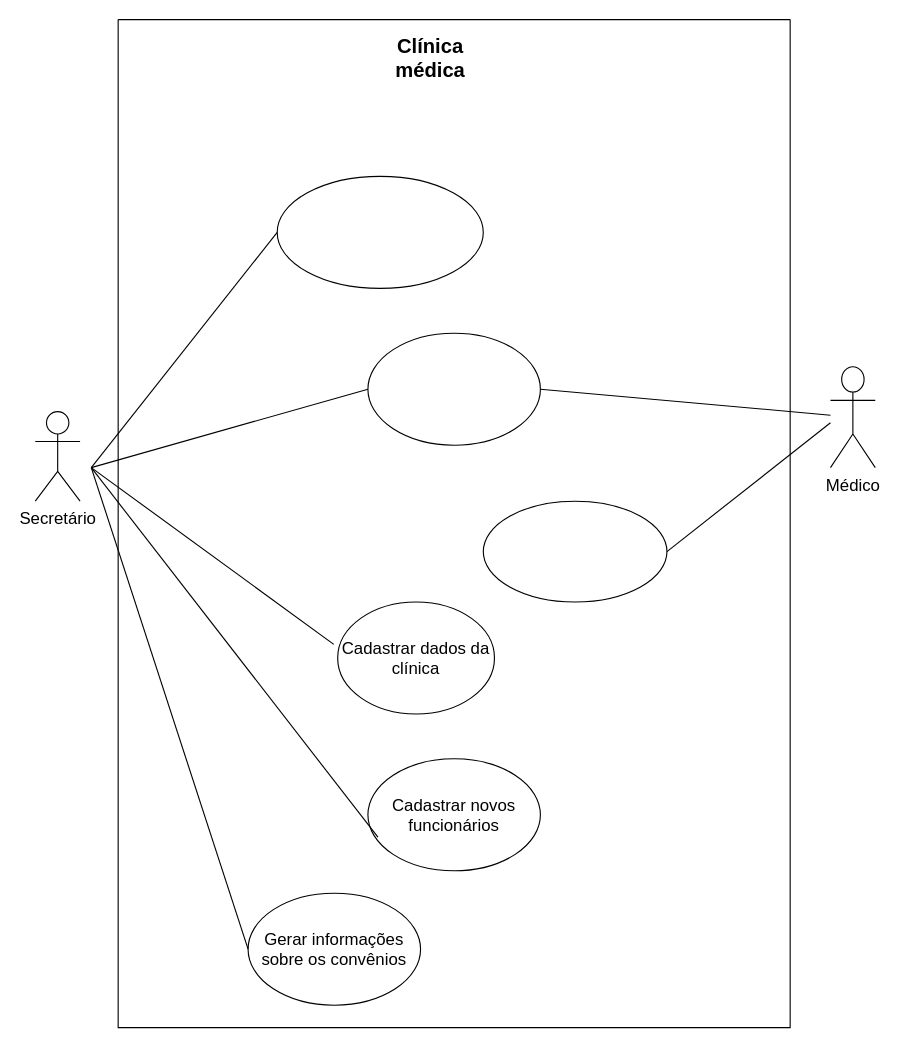
The diagram is 898 pixels wide and 1047 high, and some of its shapes have lost their labels. Each missing label, with the box of its shape:
Cadastrar informações dos pacientes: (482, 500, 667, 602)
Disponibilizar/alterar agenda de compromissos: (367, 332, 540, 445)
Gerar relatórios acerca das consultas e faturamento.: (276, 175, 483, 288)
